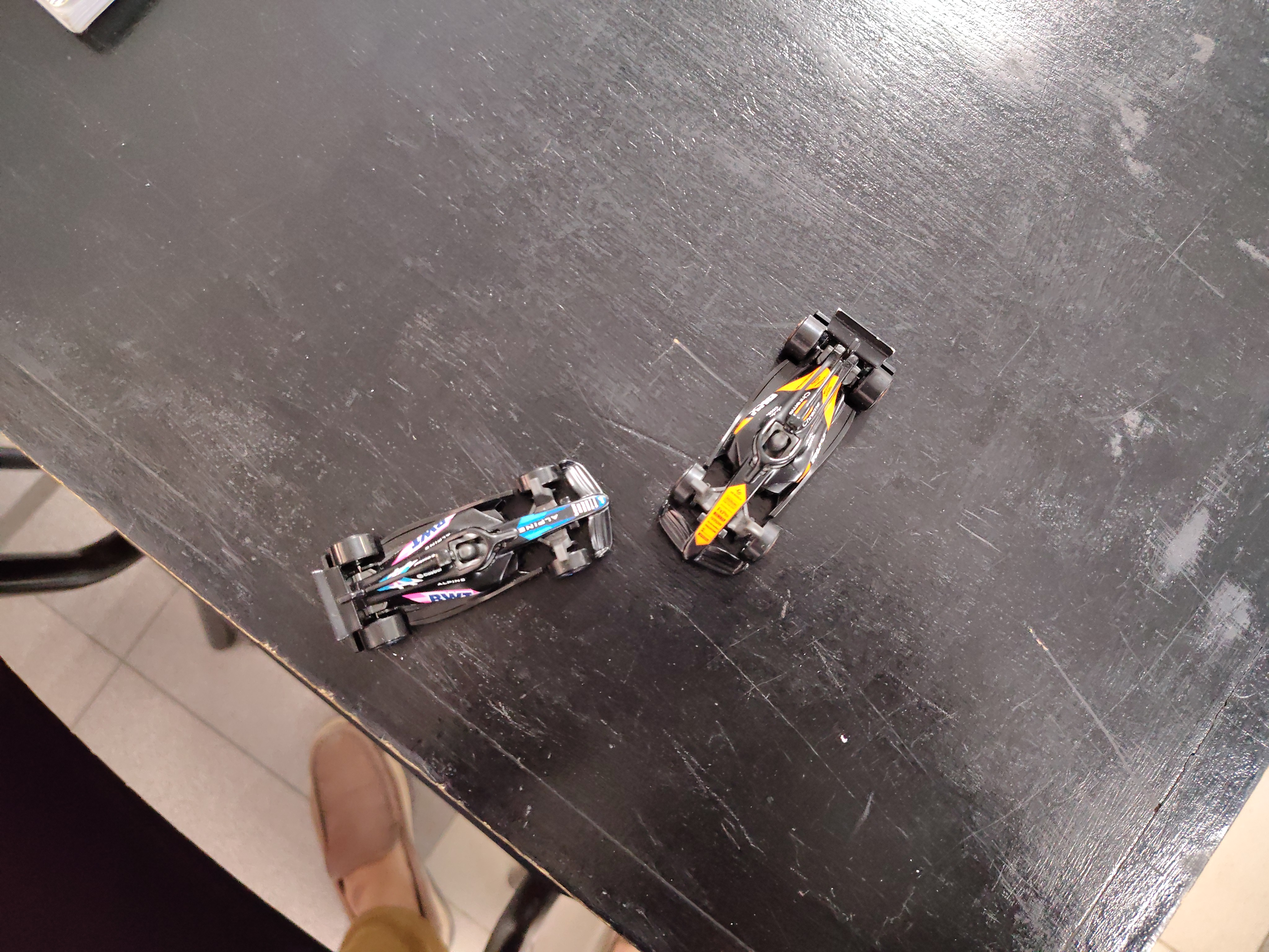Alpine A524: (299, 479, 626, 637)
McLaren MCL40: (657, 170, 934, 604)
